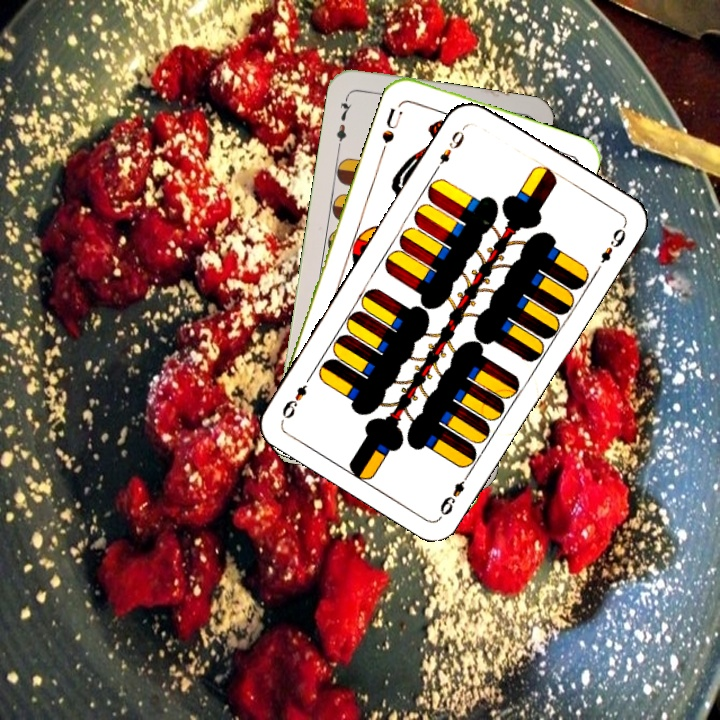E7: (332, 92, 354, 151)
E9: (430, 122, 469, 175), (435, 467, 474, 520)
SU: (377, 104, 404, 146)
